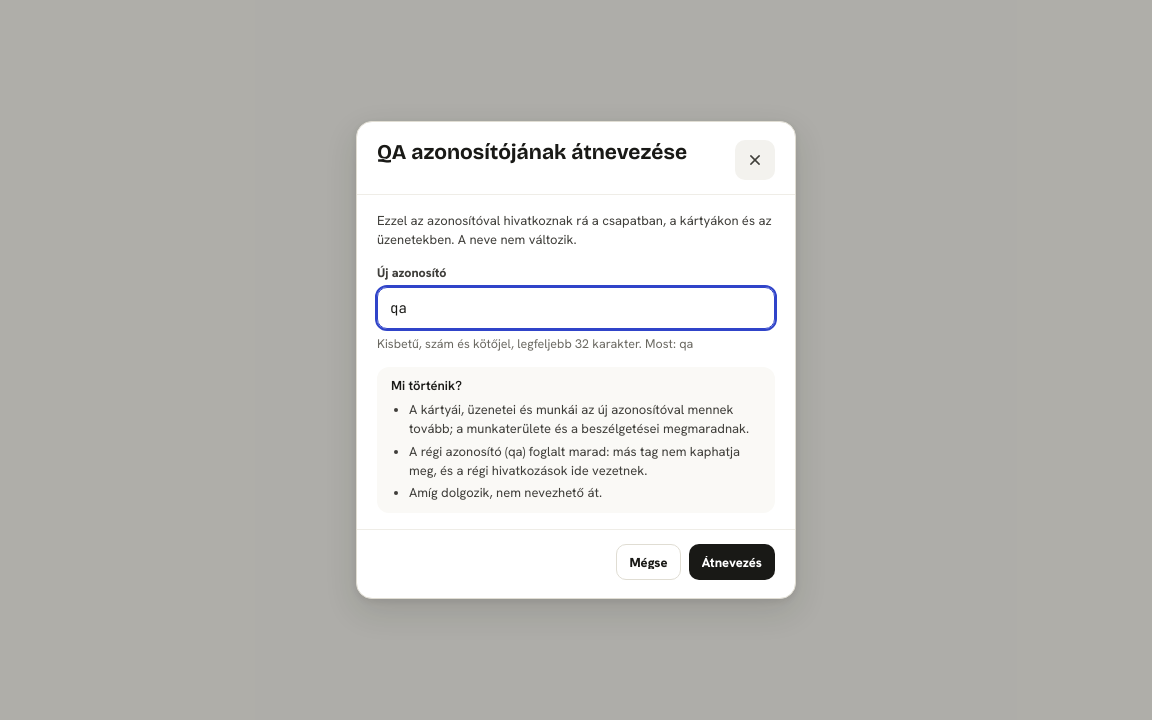
Scenario: RenameMemberDialog (PM-1026) › shows a refusal because of running work as an alert and keeps the typed value
The image size is (1152, 720).
Replace the text in the field labelled "Új azonosító" with "tester": (576, 308) top-left (377, 287), bottom-right (775, 329)
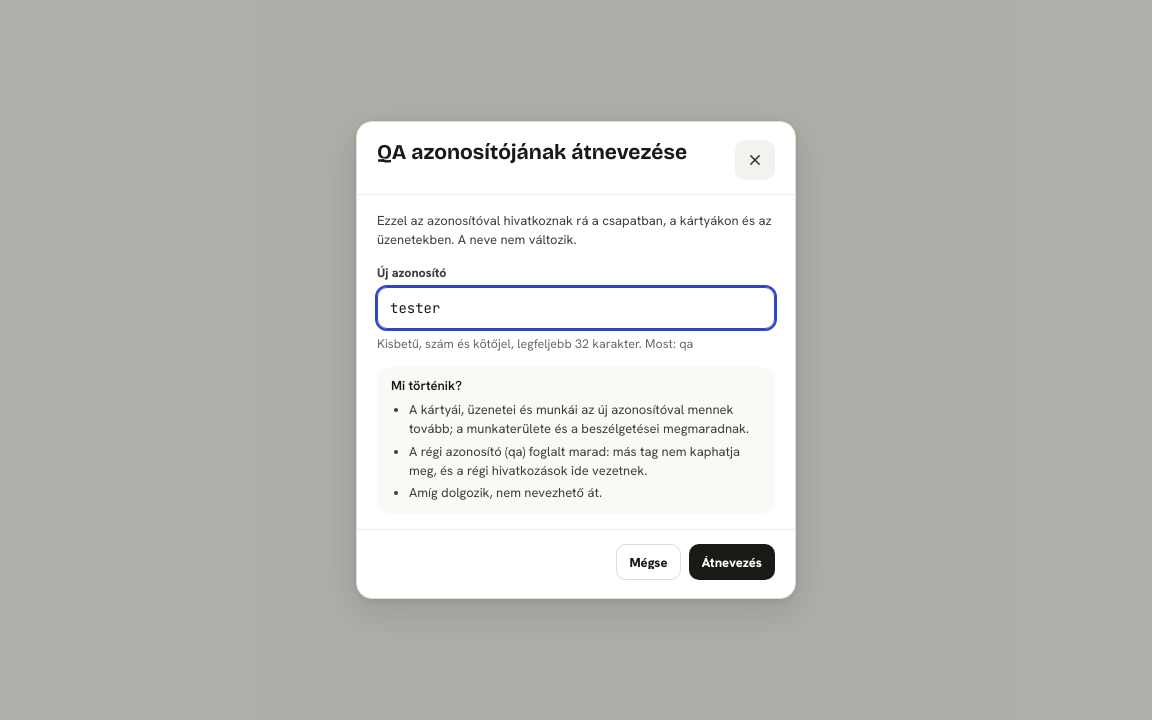
Click the button "Átnevezés": (732, 562) top-left (688, 544), bottom-right (775, 580)
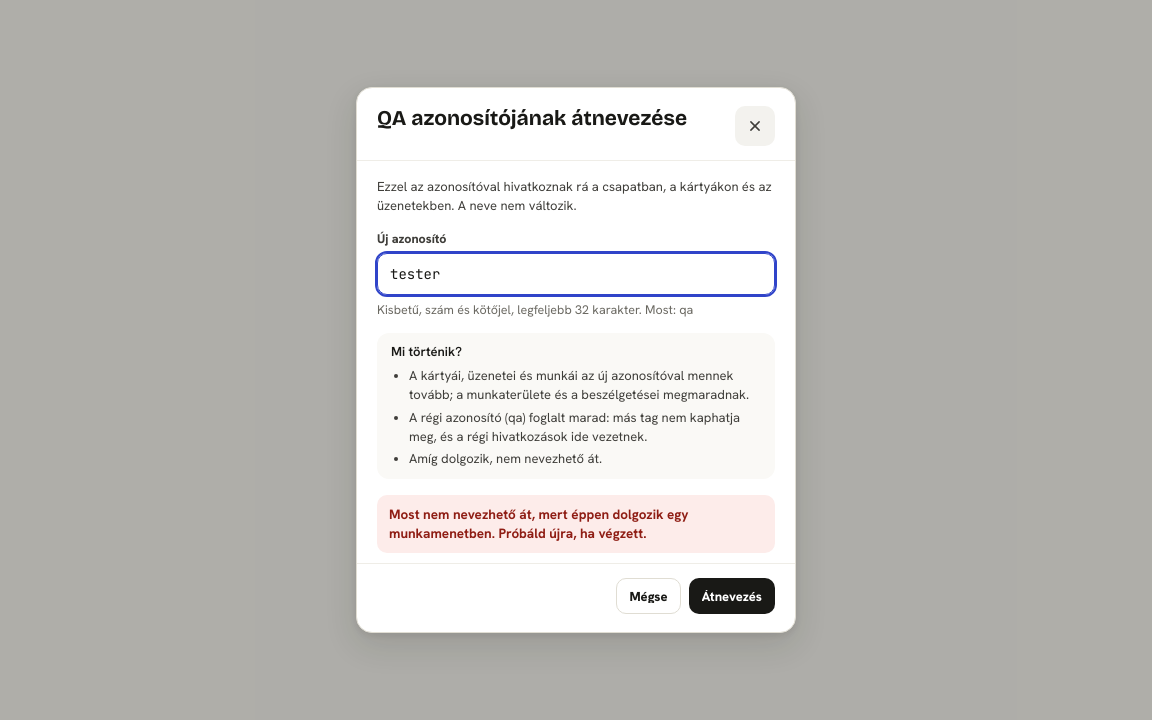
Expected: the message shows "éppen dolgozik egy munkamenetben", top-left (389, 505), bottom-right (689, 542)
